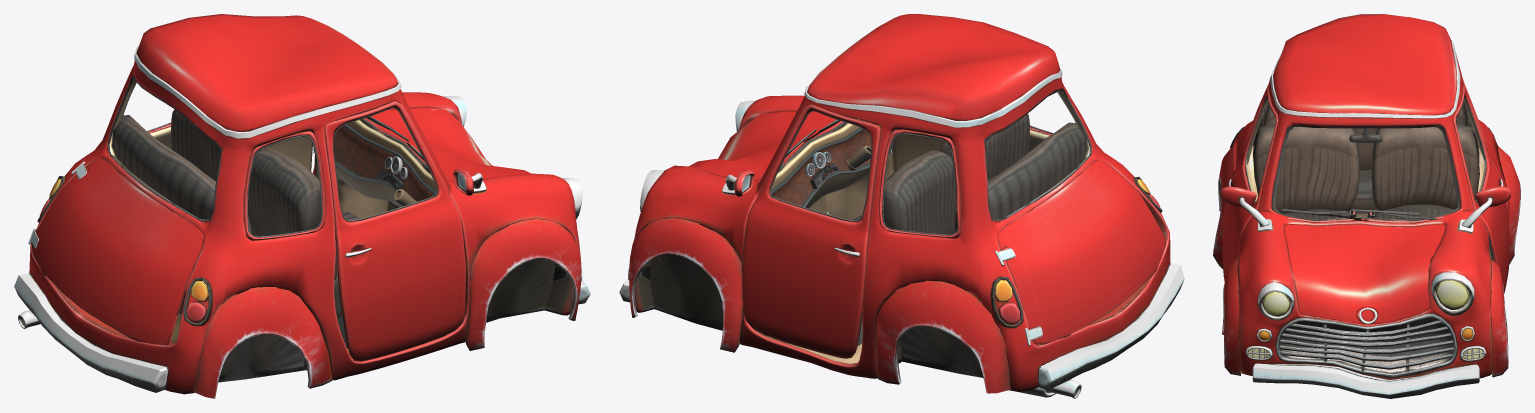
The model's file is SK_Vehicles_Saxo_Damaged.FBX.
3 renders of one model, left to right at view 1: azimuth 30°, elevation 25°; view 2: azimuth 150°, elevation 25°; view 3: azimuth 270°, elevation 25°, orthographic. The views are drawn at different scales.
Parts seen in each view (by area): view 1: Body_Morph, Boot, Door_R, Door_L; view 2: Body_Morph, Boot, Door_L, Door_R; view 3: Body_Morph, Door_L, Door_R, Mirror_R, Mirror_L, Mirror.
Part boxes in pixels (bbox=[...]): Body_Morph: bbox=[14, 14, 590, 398]; Boot: bbox=[30, 158, 203, 345]; Door_R: bbox=[324, 101, 466, 361]; Door_L: bbox=[263, 137, 312, 171]; Body_Morph: bbox=[619, 14, 1184, 398]; Boot: bbox=[998, 160, 1165, 346]; Door_L: bbox=[741, 104, 880, 358]; Door_R: bbox=[892, 135, 942, 172]; Body_Morph: bbox=[1213, 14, 1520, 398]; Door_L: bbox=[1453, 86, 1509, 293]; Door_R: bbox=[1222, 86, 1278, 280]; Mirror_R: bbox=[1220, 186, 1256, 207]; Mirror_L: bbox=[1475, 186, 1511, 207]; Mirror: bbox=[1349, 128, 1382, 142].
Bounding box in the file's own units: 399 × 237 × 268.
4 materials, 3 textured.
